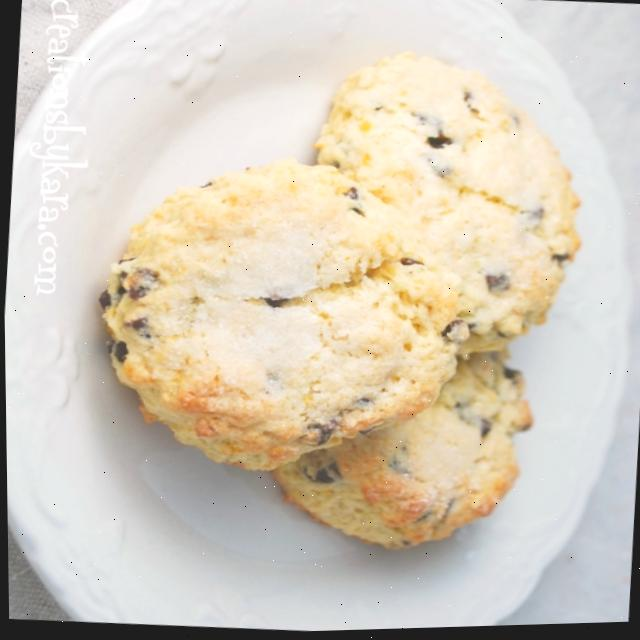面包点心: (2, 0, 640, 639)
